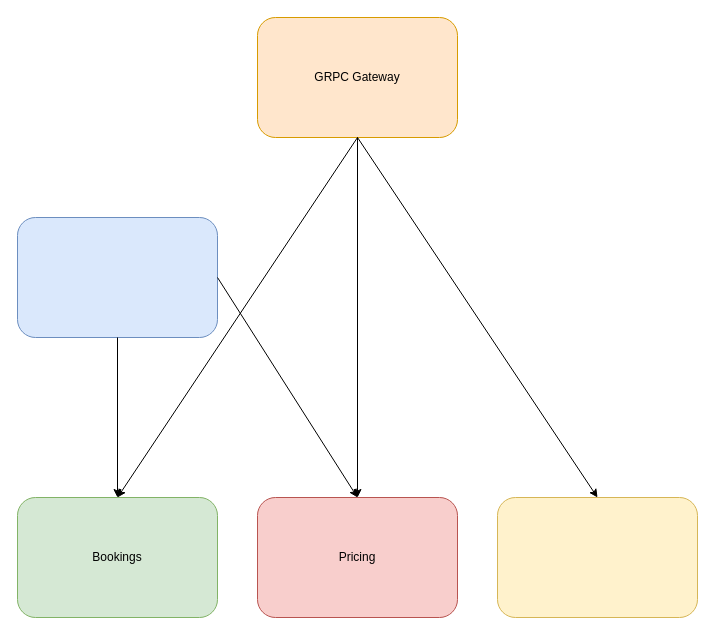
Some shapes in this 715 by 635 pixel diagram are drawn without their labels. Each missing label, with the box of its shape:
Catalog: (496, 496, 698, 618)
Tee Times: (16, 216, 218, 338)
